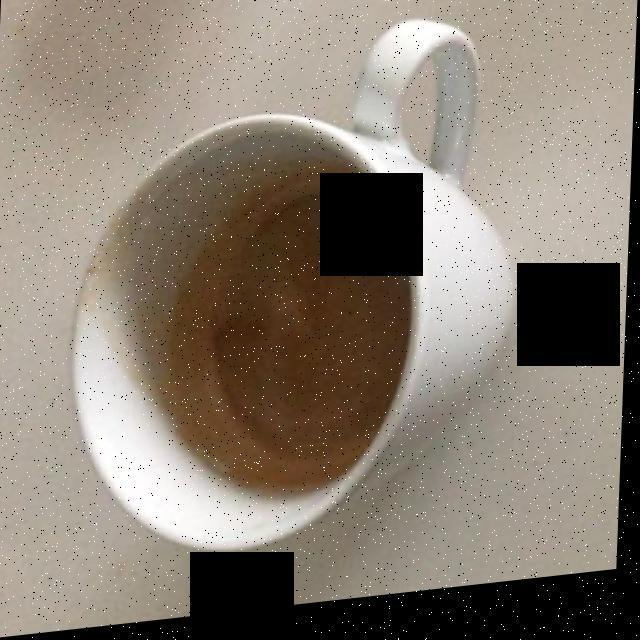coffee: (166, 169, 408, 495)
